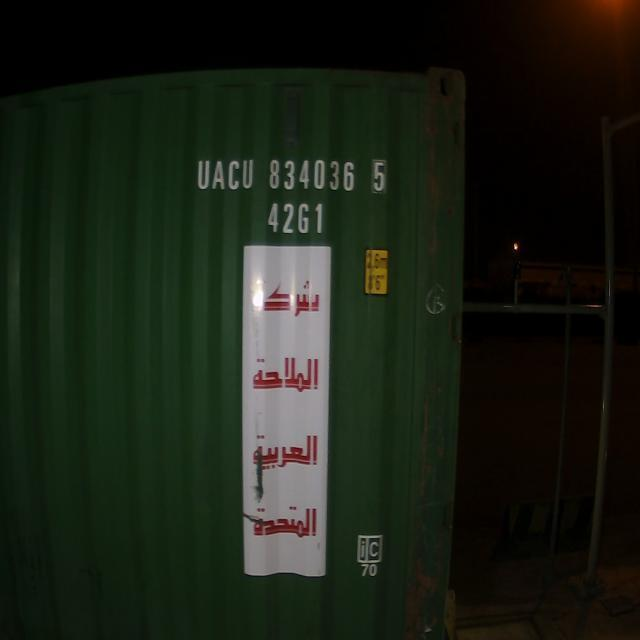ISO: (262, 192, 332, 238)
container_number: (190, 156, 395, 193)
